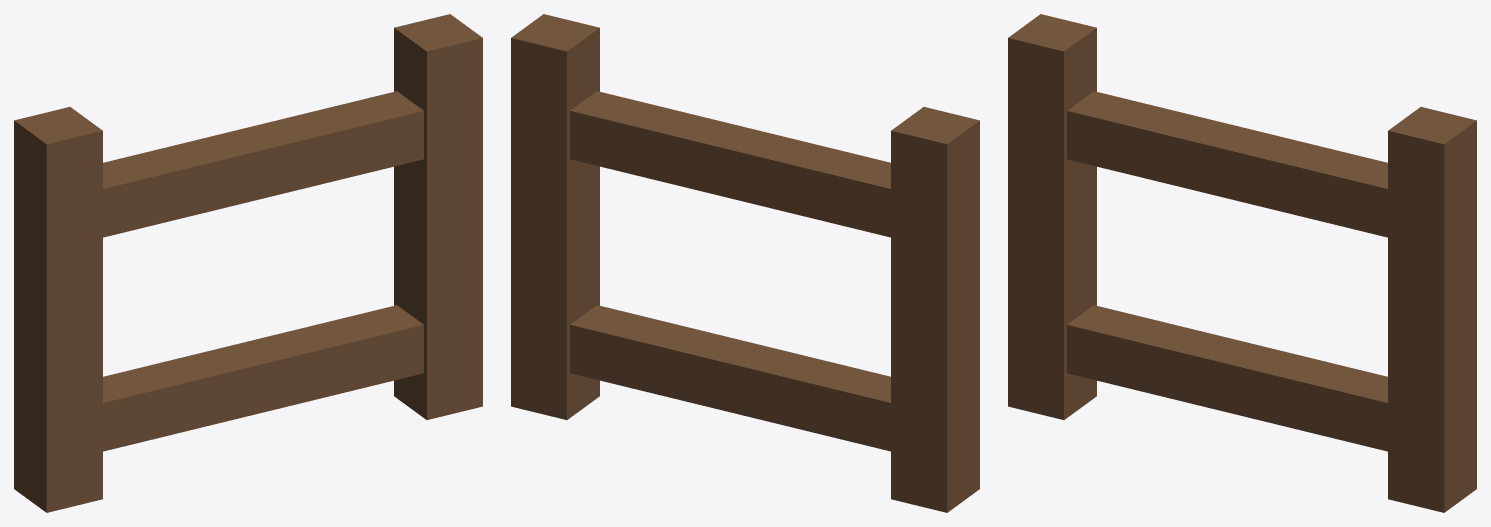
File: Valla Completa.fbx
3 views of the same model, side by side, from view 1: azimuth 30°, elevation 25°; view 2: azimuth 150°, elevation 25°; view 3: azimuth 330°, elevation 25° (orthographic).
Parts seen in each view (by area): view 1: polySurface486; view 2: polySurface486; view 3: polySurface486.
Boxes of the visible parts, x1,y1,x2,y2 form: polySurface486: (14, 14, 482, 512); polySurface486: (511, 14, 979, 512); polySurface486: (1008, 14, 1476, 512).
Bounding box in the file's own units: 2.99 × 2.42 × 0.3883.
